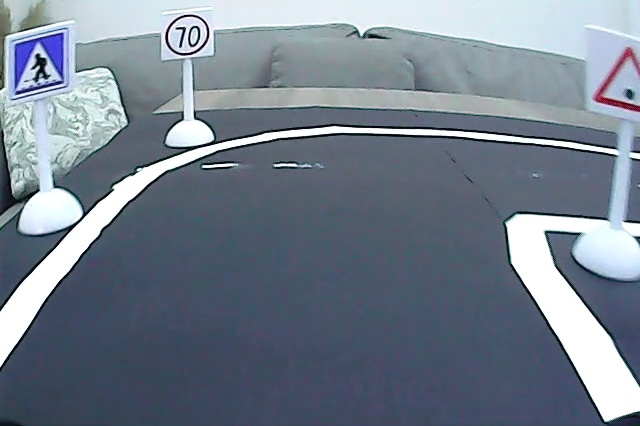green light: (587, 40, 640, 114)
pedestrian crossing: (6, 32, 69, 96)
speed limit 70: (163, 11, 210, 56)
